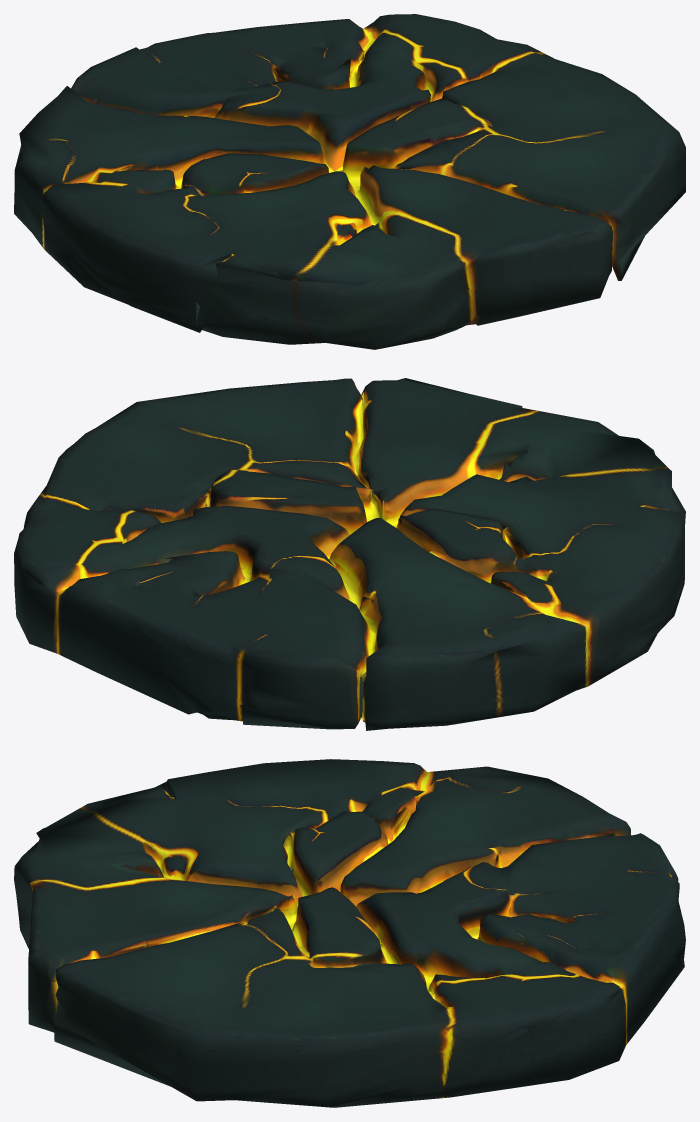
Rendered from z0_floor_crack.glb.
The picture shows the model from 3 angles, top to bottom: view 1: azimuth 30°, elevation 25°; view 2: azimuth 150°, elevation 25°; view 3: azimuth 270°, elevation 25°; orthographic projection. The views are drawn at different scales.
Size of the model in its own units: 1.91 by 0.2588 by 1.9.
Materials: 1 (1 with a texture image).
